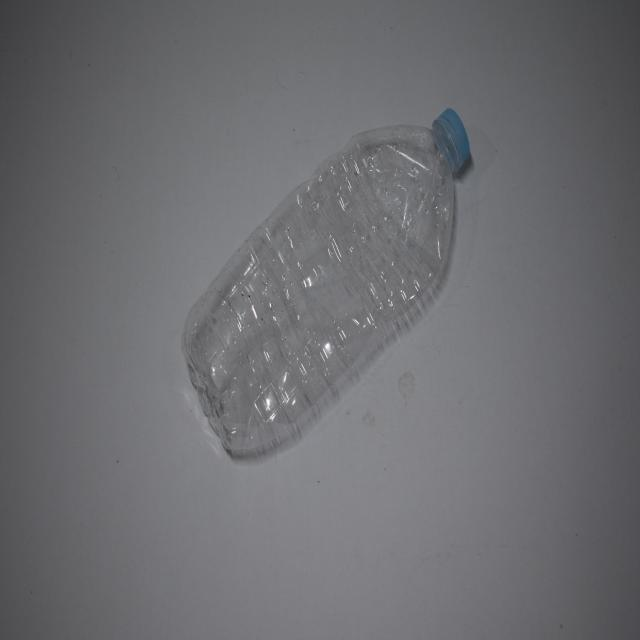empty: (182, 108, 470, 456)
